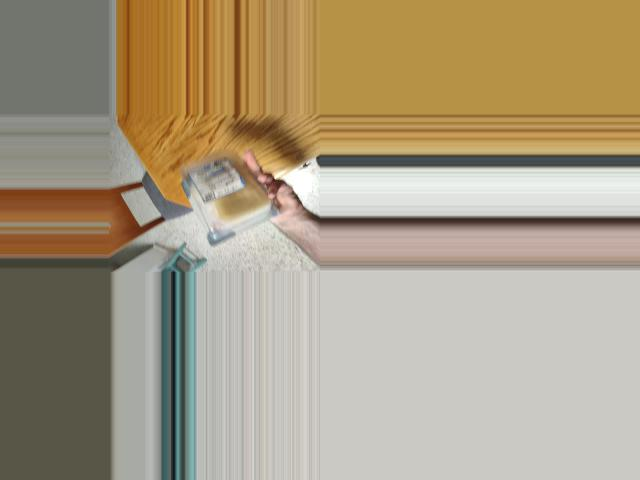cheese: (173, 160, 276, 239)
